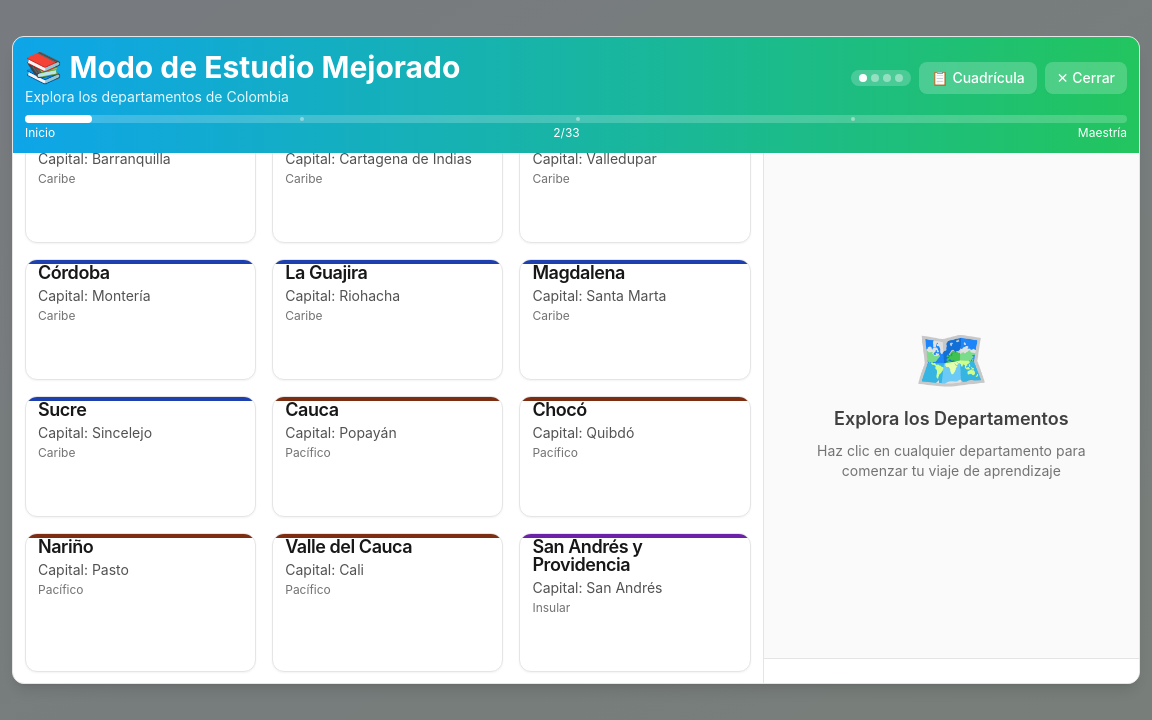
Test: StudyMode Component › Department Selection and Information Display › should mark department as studied when clicked
(page scrolled)
Click the heading "Valle del Cauca": (349, 546) [285,538,412,556]
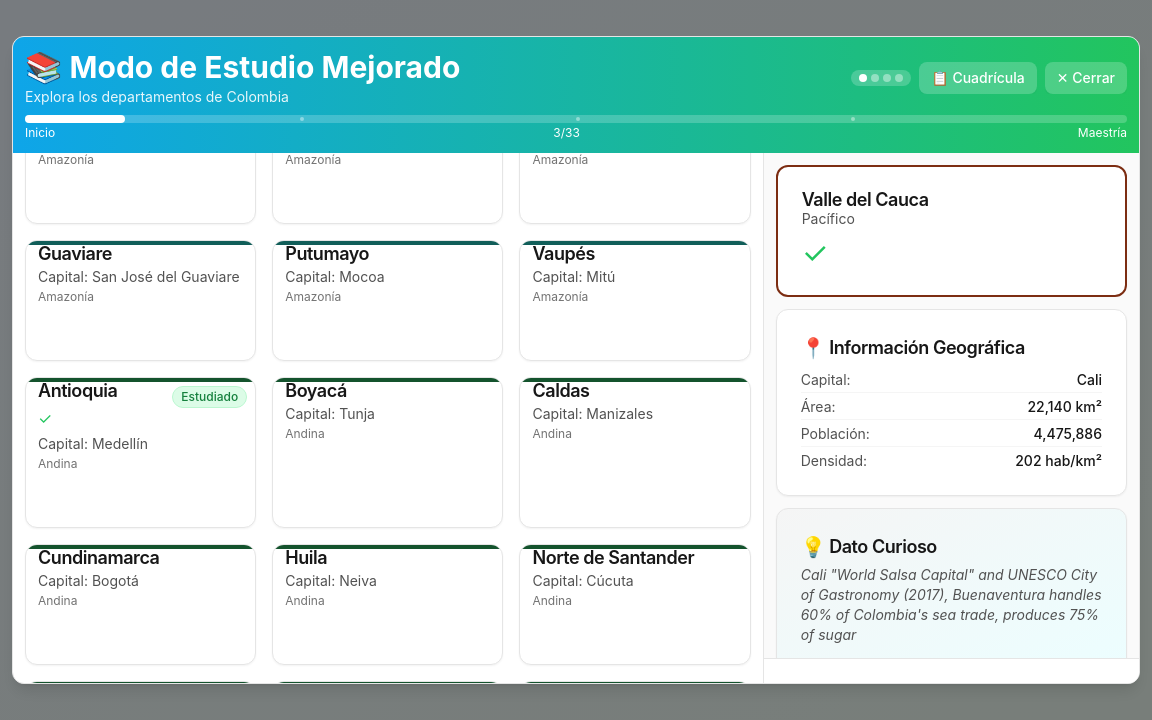
Expected: the text "✓" below "Antioquia" is shown, [38,408,52,428]
